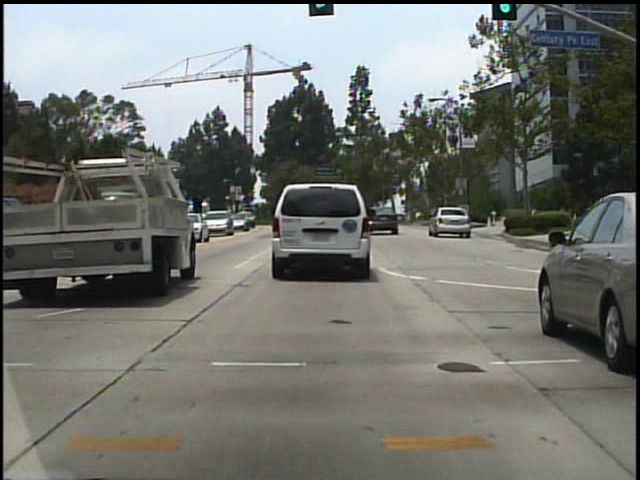person: (409, 198, 420, 225)
